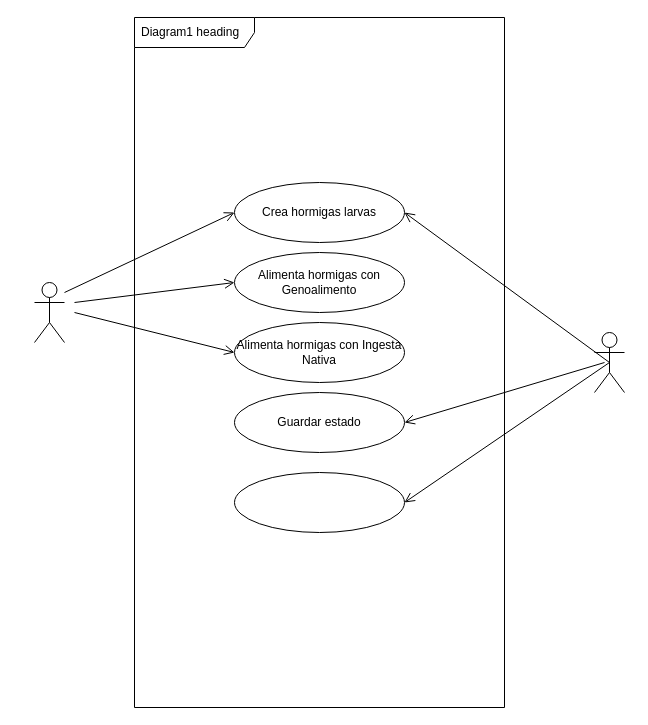
Some shapes in this 648 by 725 pixel diagram are drawn without their labels. Here are the shapes that lost their labels. From the top down, the centre of each, then its label:
At (x=49, y=312): "Entomólogo".
At (x=609, y=362): "Sistema".
At (x=319, y=502): "Eliminar hormiga".
